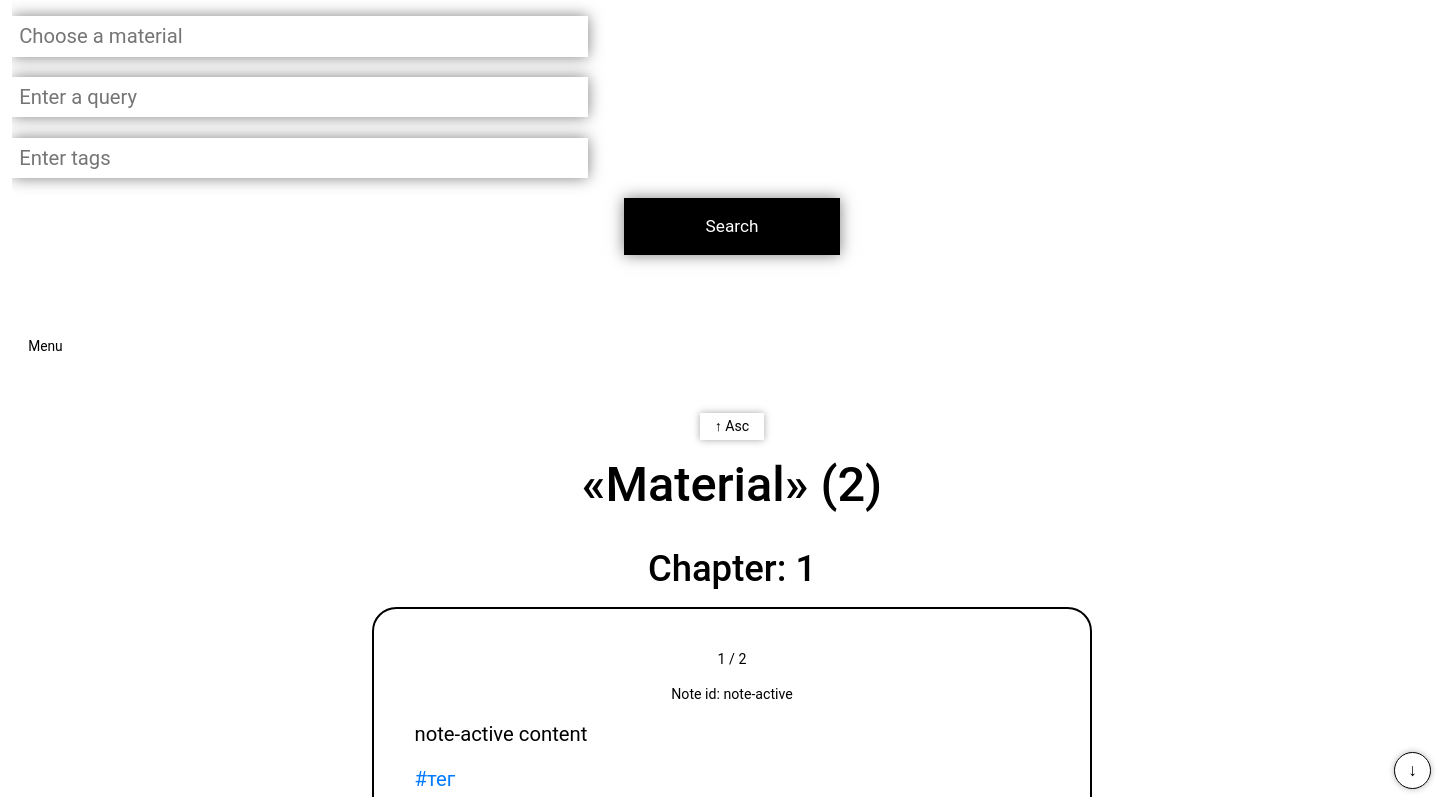
Test: SearchNotesPage query autocompletion › clears the suggestions and reports a failed request
Type "al" into the field with placeholder "Enter a query".
click(300, 97); type("al")  # box 12,77 -> 588,117
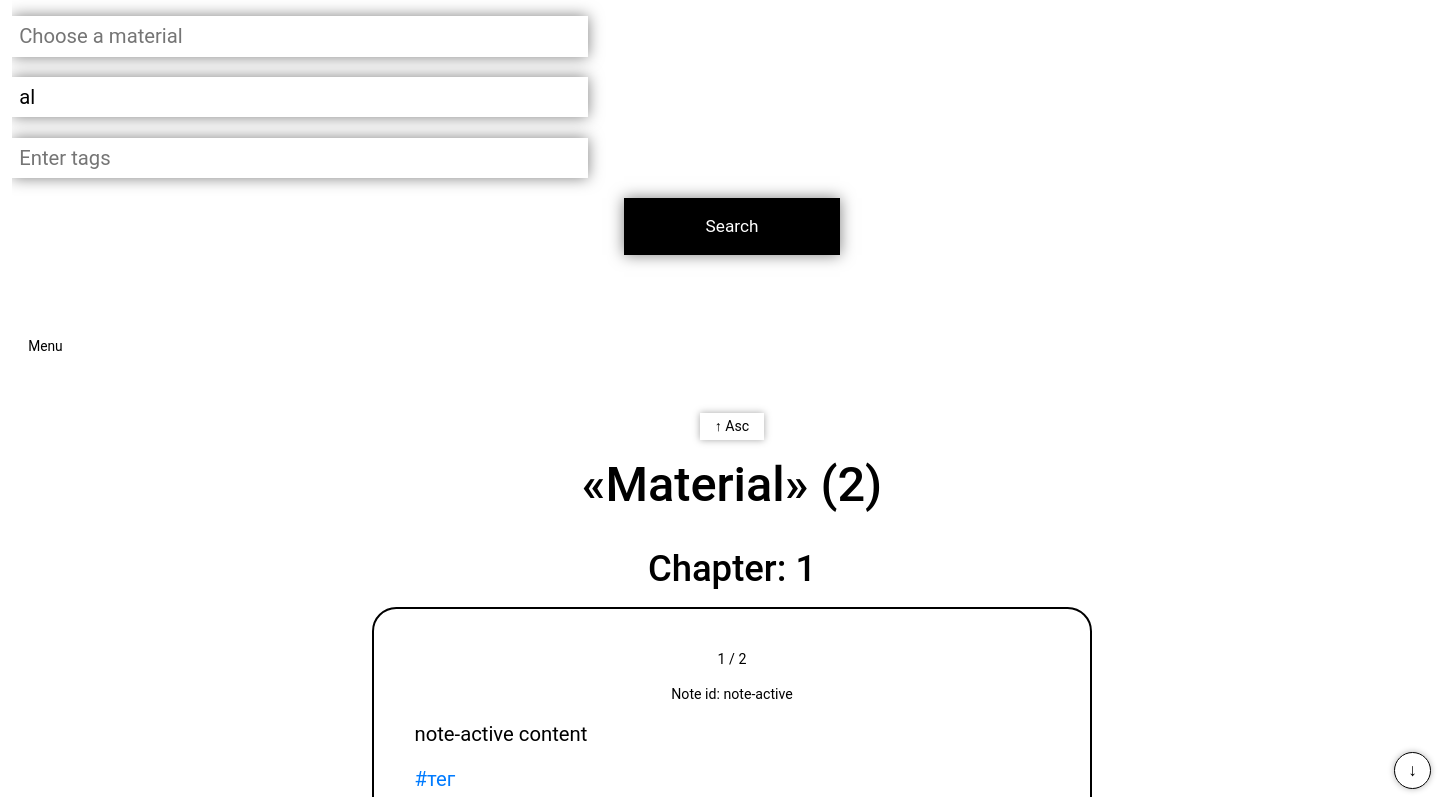
Replace the text in the field with placeholder "Enter a query" with "alp" at (300, 97), box 12,77 -> 588,117
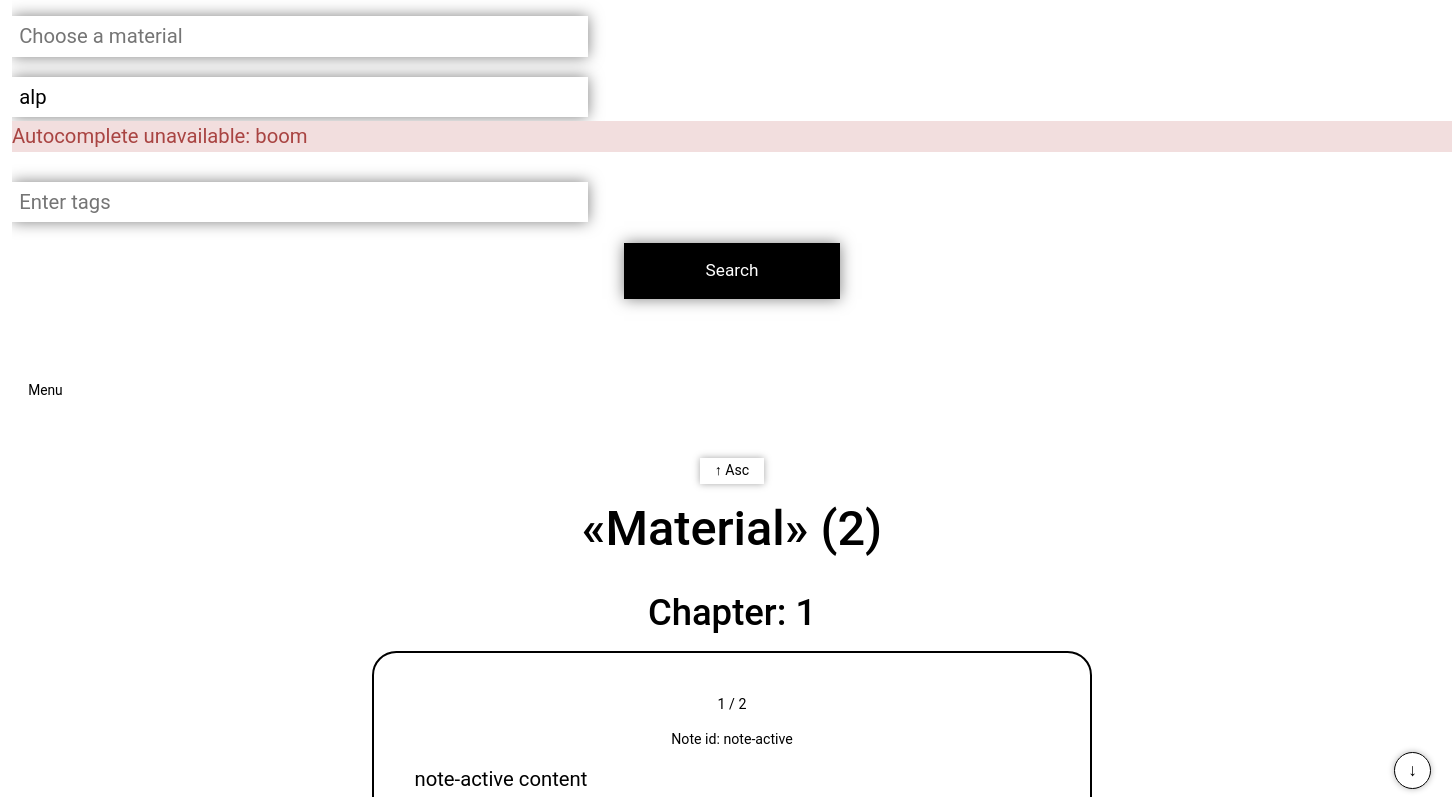
Check: the message shows "Autocomplete unavailable", box 12,124 -> 255,148
